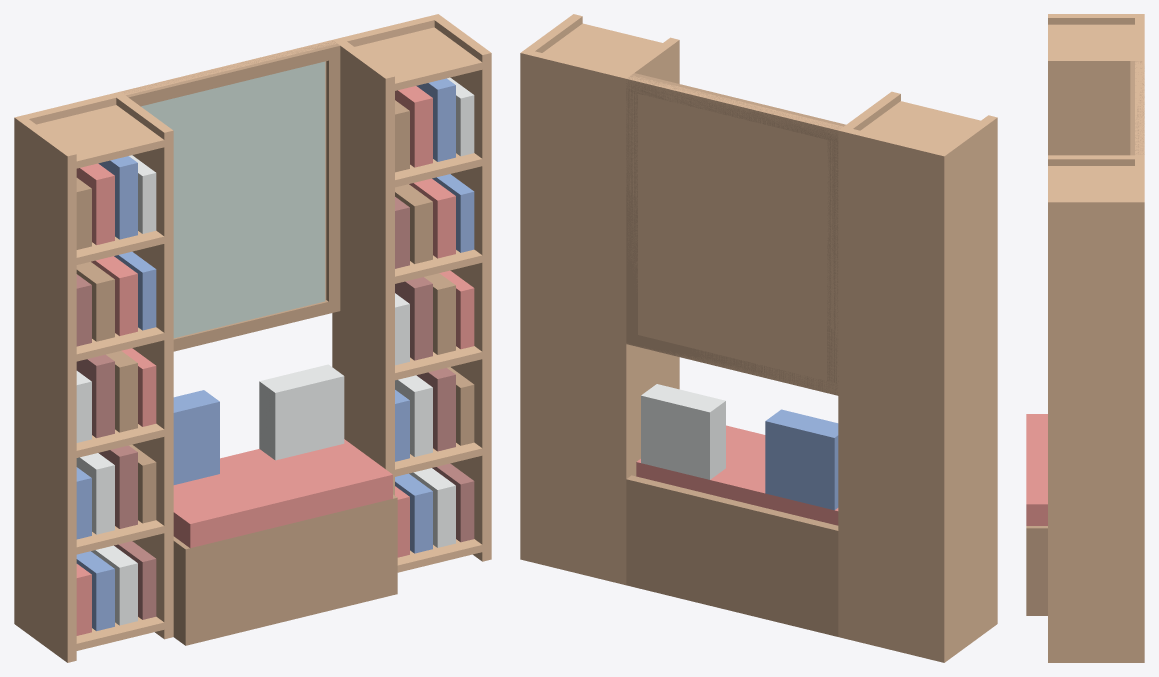
The model's file is readingNookShelf.glb.
3 renders of one model, left to right at view 1: azimuth 30°, elevation 25°; view 2: azimuth 150°, elevation 25°; view 3: azimuth 270°, elevation 25°, orthographic. The views are drawn at different scales.
Parts seen in each view (by area): view 1: readingNookShelf; view 2: readingNookShelf; view 3: readingNookShelf.
Part boxes in pixels (x1,y1,x2,y2): readingNookShelf: (14,14,491,662); readingNookShelf: (520,14,997,662); readingNookShelf: (1026,14,1144,662).
Size of the model in its own units: 0.92 by 1.05 by 0.245.
